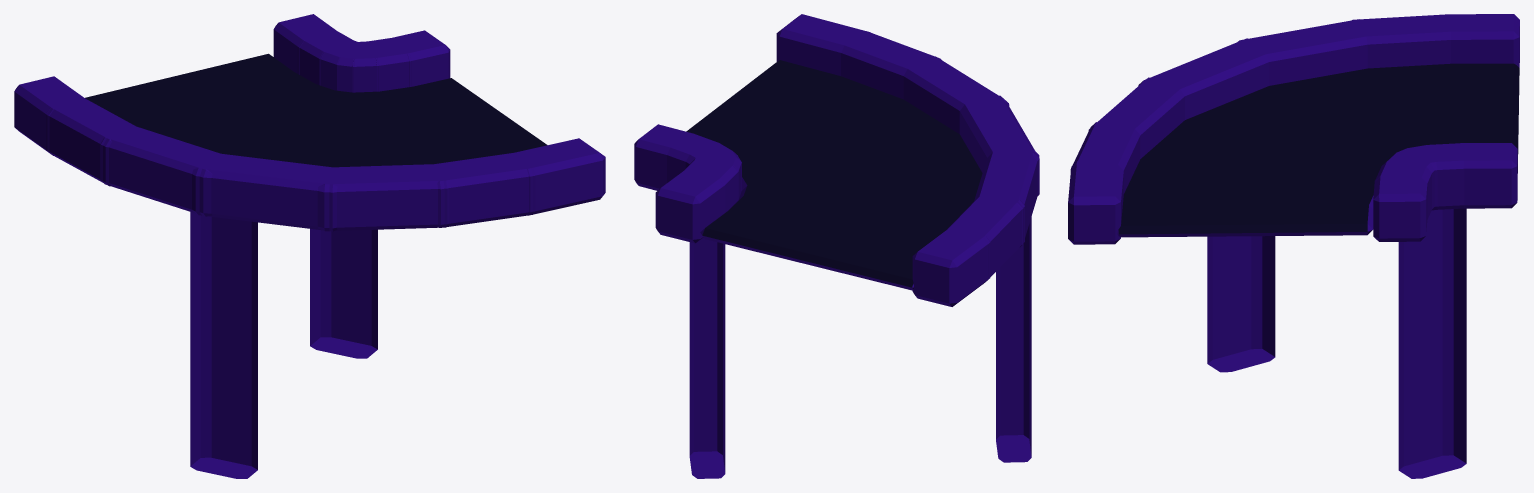
Rendered from ConveyorCurve.fbx.
3 views of the same model, side by side, from view 1: azimuth 30°, elevation 25°; view 2: azimuth 150°, elevation 25°; view 3: azimuth 270°, elevation 25° (orthographic). The views are drawn at different scales.
Visible parts, largest first — view 1: curved conveyor.002; view 2: curved conveyor.002; view 3: curved conveyor.002.
Boxes of the visible parts, x1,y1,x2,y2 form: curved conveyor.002: (14,14,605,478); curved conveyor.002: (634,14,1039,478); curved conveyor.002: (1068,14,1519,478).
Size of the model in its own units: 5.78 by 4.46 by 5.87.
